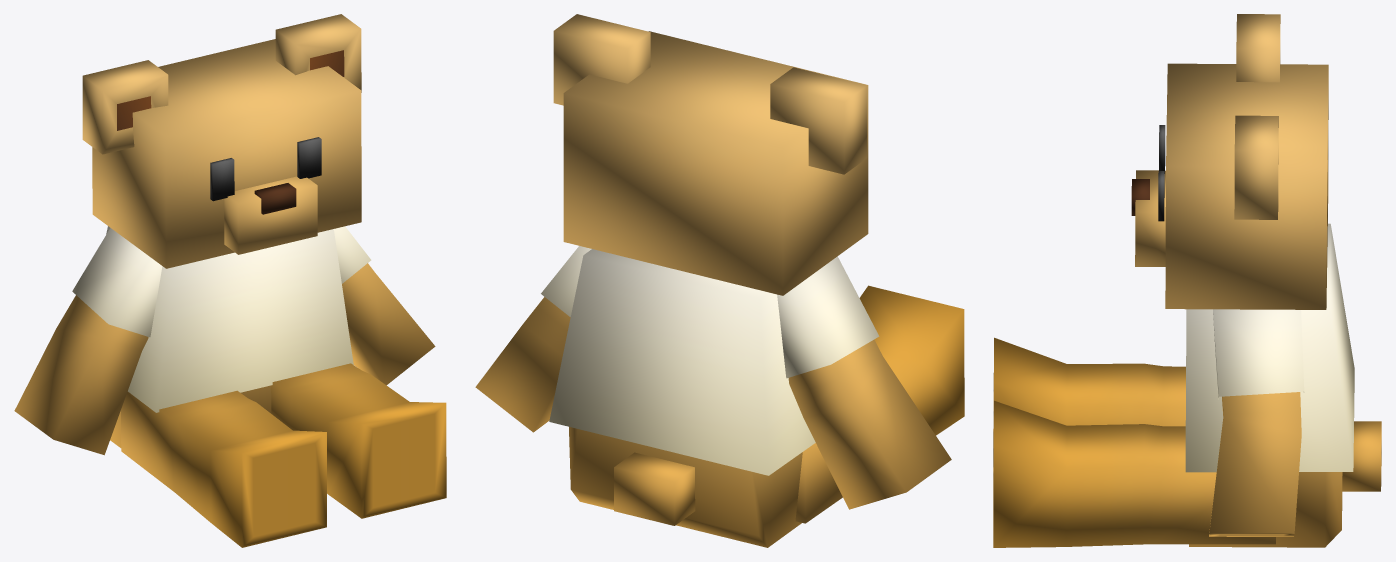
The model's file is MiniBear_default.fbx.
3 renders of one model, left to right at view 1: azimuth 30°, elevation 25°; view 2: azimuth 150°, elevation 25°; view 3: azimuth 270°, elevation 25°, orthographic. The views are drawn at different scales.
Parts seen in each view (by area): view 1: MiniBear.default; view 2: MiniBear.default; view 3: MiniBear.default.
Part boxes in pixels (x1,y1,x2,y2): MiniBear.default: [14, 14, 446, 547]; MiniBear.default: [475, 14, 964, 547]; MiniBear.default: [993, 14, 1381, 547].
Bounding box in the file's own units: 62 × 60.47 × 50.54.
